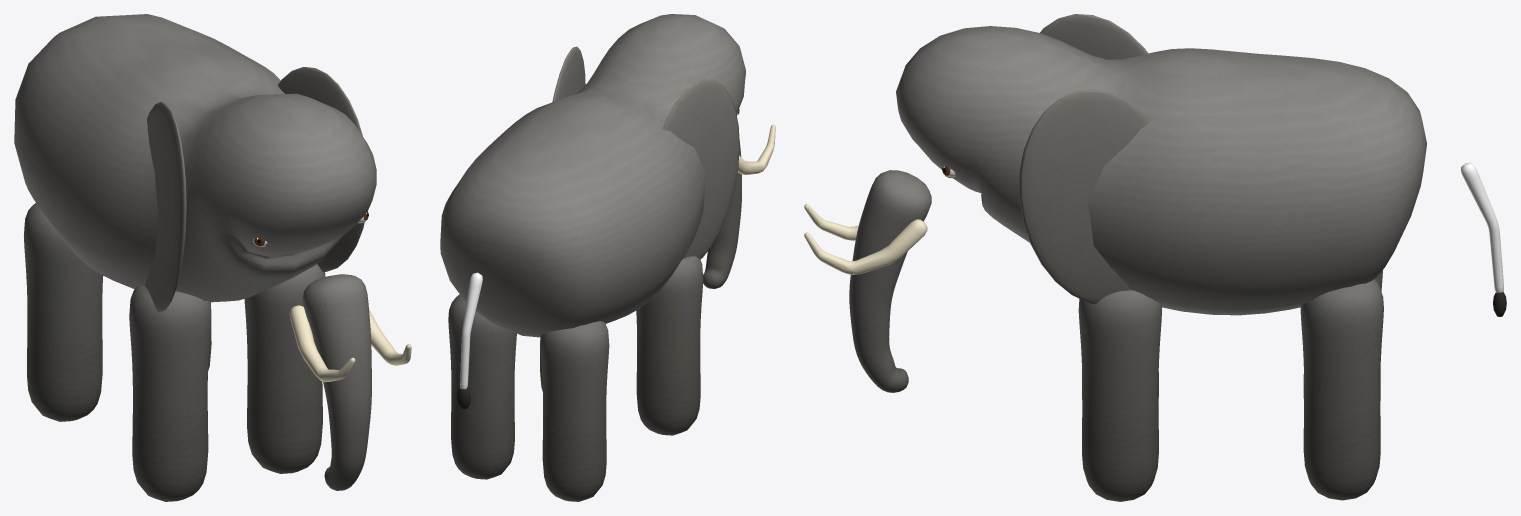
The model's file is elephant.glb.
The picture shows the model from 3 angles, left to right: view 1: azimuth 30°, elevation 25°; view 2: azimuth 150°, elevation 25°; view 3: azimuth 270°, elevation 25°; orthographic projection. The views are drawn at different scales.
Parts seen in each view (by area): view 1: body, legFR, legBR, legFL, trunk, earR, earL; view 2: body, legBR, legFR, legBL, earR, trunk, earL; view 3: body, earL, legBL, legFL, trunk, earR.
Boxes of the visible parts, x1,y1,x2,y2 form: body: (14,14,411,382); legFR: (129,285,211,501); legBR: (23,203,102,421); legFL: (244,264,325,473); trunk: (302,274,371,490); earR: (145,101,186,312); earL: (278,67,364,271); body: (440,14,775,409); legBR: (540,321,609,501); legFR: (636,256,703,435); legBL: (448,294,516,479); earR: (662,79,739,259); trunk: (703,139,741,288); earL: (552,46,585,101); body: (804,26,1506,316); earL: (1019,89,1149,304); legBL: (1300,279,1383,500); legFL: (1078,290,1161,501); trunk: (849,170,931,392); earR: (1040,14,1148,59).
Bounding box in the file's own units: 2.28 × 4.1 × 6.02.
Materials: 10 (9 with a texture image).
